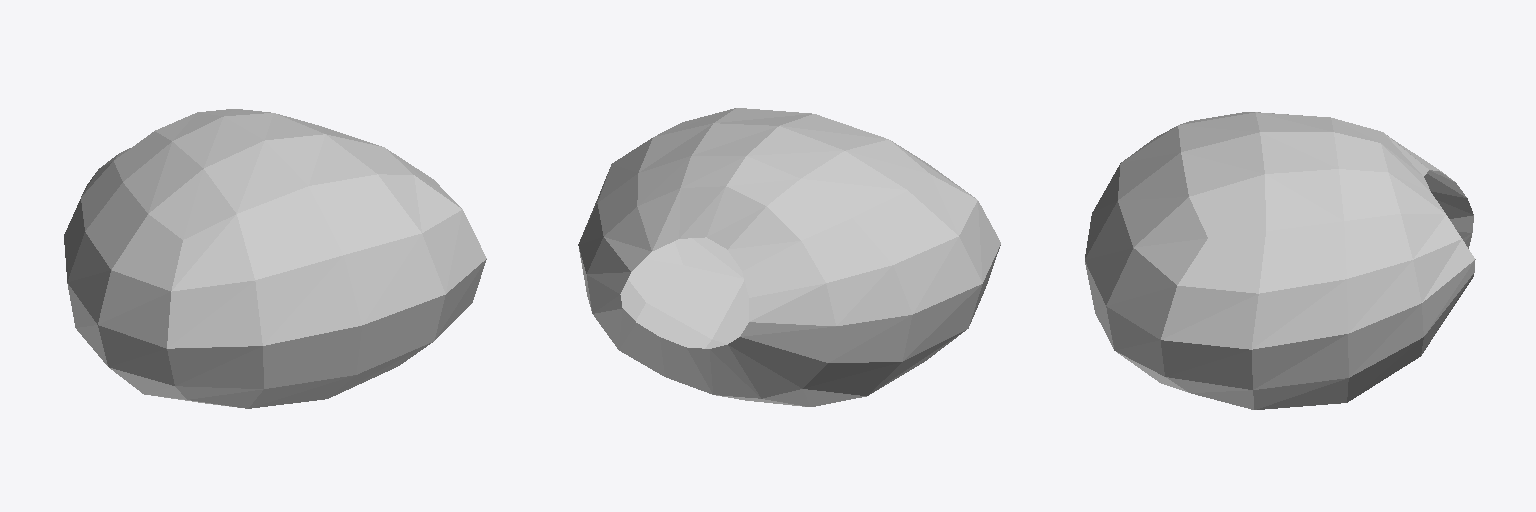
The model's file is mouth.obj.
The picture shows the model from 3 angles: view 1: azimuth 30°, elevation 25°; view 2: azimuth 150°, elevation 25°; view 3: azimuth 270°, elevation 25°; orthographic projection.
Parts seen in each view (by area): view 1: pasted__Geo_Beak1 group; view 2: pasted__Geo_Beak1 group; view 3: pasted__Geo_Beak1 group.
Boxes of the visible parts, x1,y1,x2,y2 form: pasted__Geo_Beak1 group: [64, 109, 486, 408]; pasted__Geo_Beak1 group: [578, 108, 1000, 406]; pasted__Geo_Beak1 group: [1085, 112, 1475, 409].
Bounding box in the file's own units: 3.3 × 2.08 × 2.99.